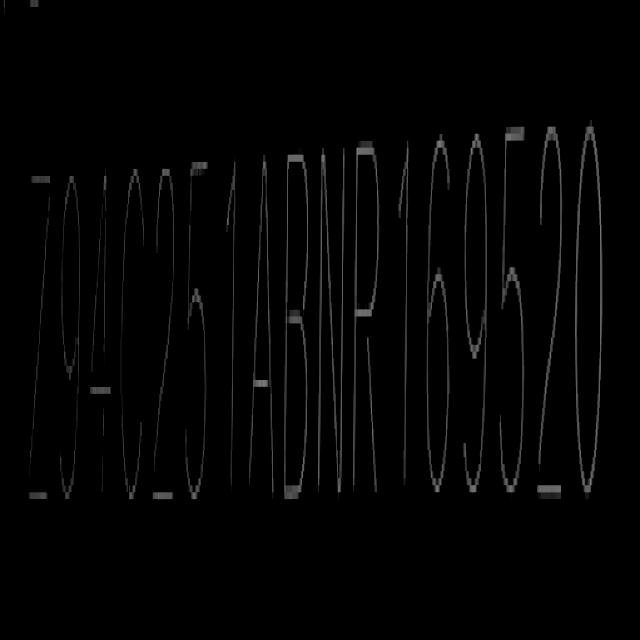0: (573, 104, 605, 505)
1: (396, 127, 418, 502), (220, 148, 243, 490)
2: (537, 116, 571, 514), (150, 155, 176, 519)
4: (90, 156, 116, 519)
5: (500, 116, 530, 514), (186, 150, 215, 513)
6: (427, 121, 456, 503)
9: (460, 118, 490, 506), (54, 165, 82, 520)
A: (248, 142, 276, 510)
B: (284, 135, 316, 508)
C: (118, 156, 148, 510)
N: (318, 135, 346, 505)
R: (352, 134, 385, 502)
Z: (24, 159, 52, 528)
